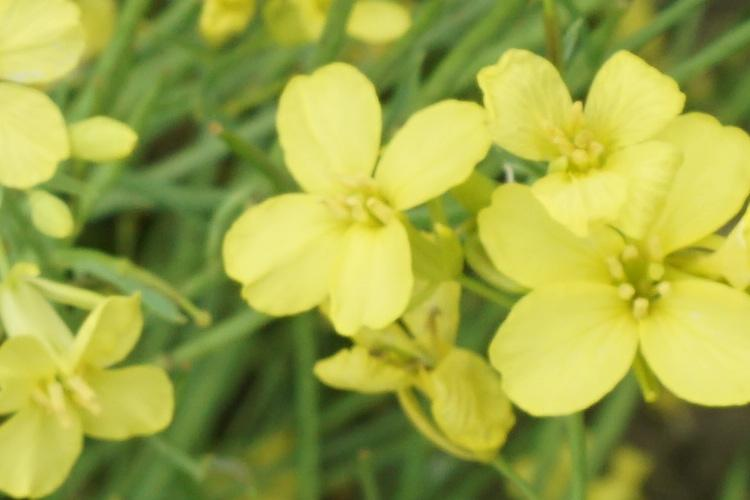bud: (68, 116, 155, 179), (25, 185, 79, 248)
yellow: (485, 156, 745, 419), (226, 91, 464, 320), (490, 67, 717, 232), (12, 303, 191, 492), (358, 302, 510, 470), (7, 22, 85, 179)
